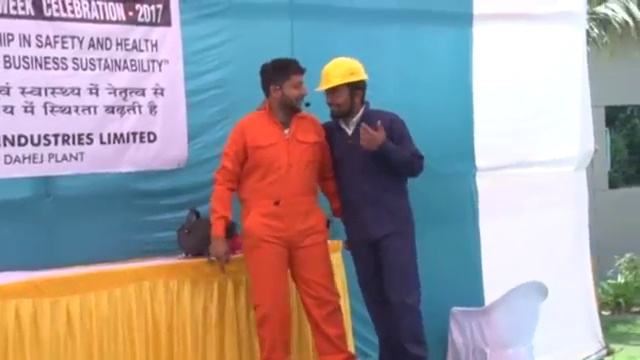helmet: (312, 55, 367, 92)
helmet_off: (259, 57, 312, 115)
helmet_on: (312, 56, 370, 121)
person: (208, 55, 343, 360), (313, 56, 432, 360)
